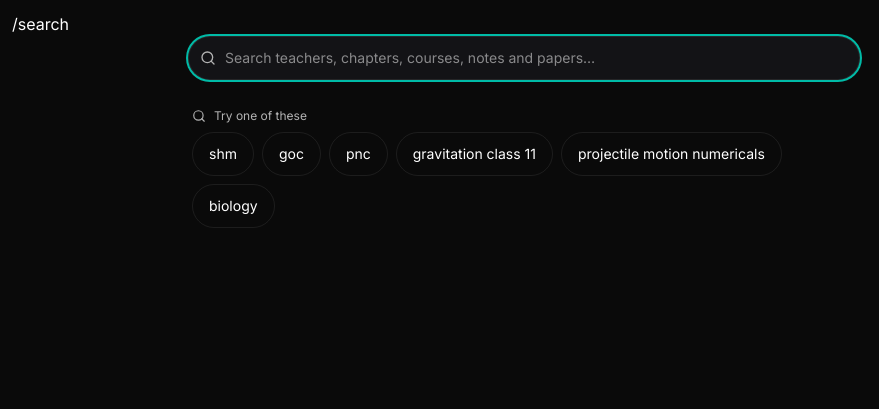
Test case: study material appears in the main search › offers the new groups as type filters, with their counts
This screenshot has width=879, height=409.
Type "kinematics" into the dropdown.
click(524, 58); type("kinematics")  # box [188, 36, 860, 80]
Wait 295 ms
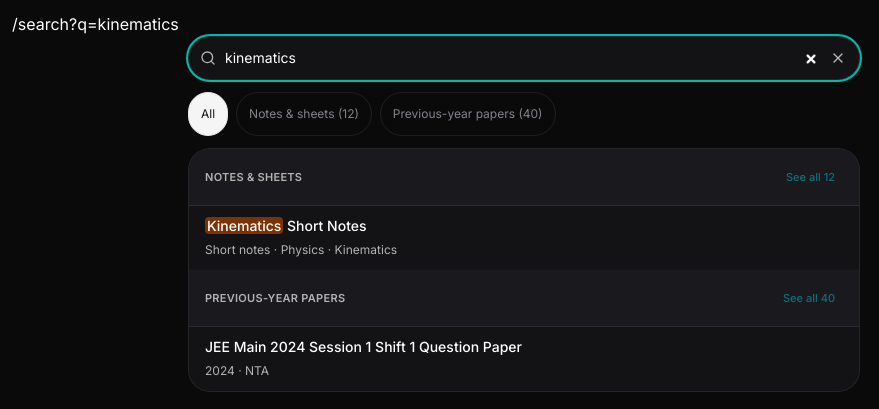
expect the button "Notes & sheets (12)" is shown: met, box [236, 92, 372, 136]
expect the button "Previous-year papers (40)" is shown: met, box [380, 92, 556, 136]
